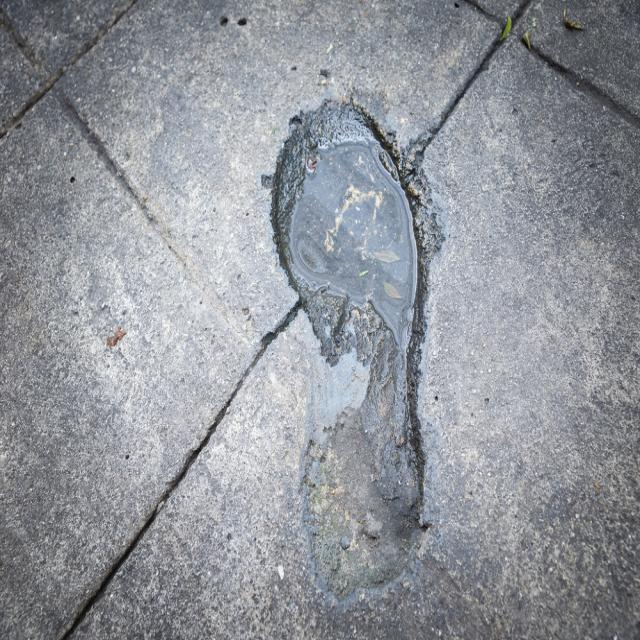human_footprint: (239, 35, 476, 637)
